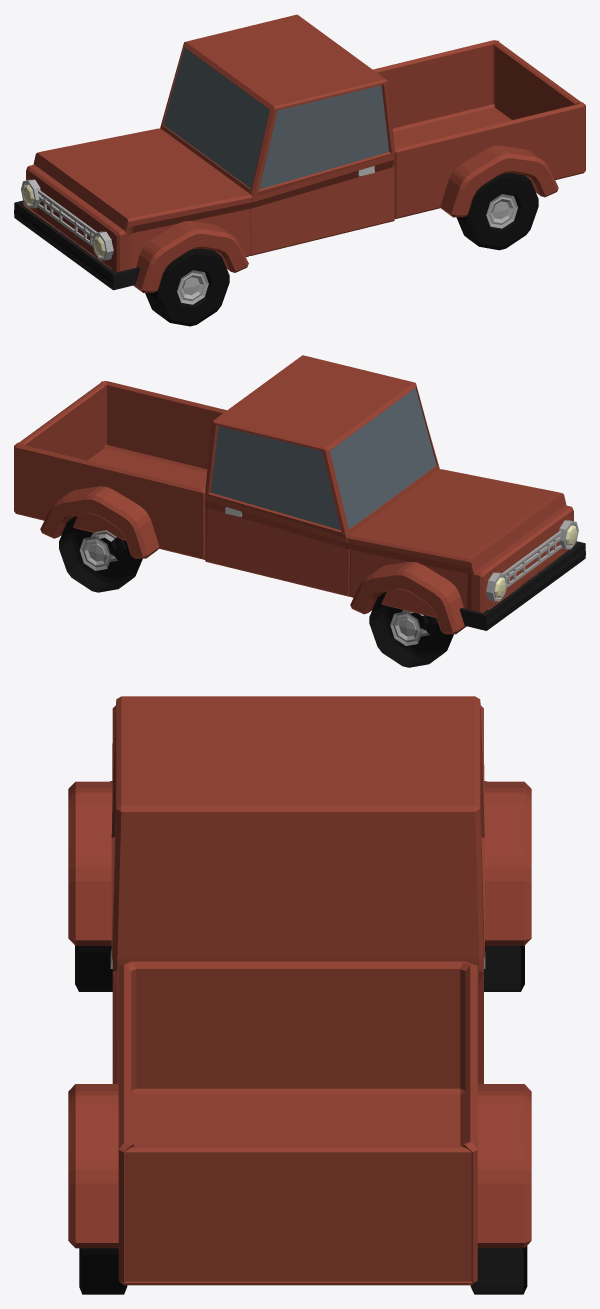
The model's file is pickup truck.glb.
3 renders of one model, top to bottom at view 1: azimuth 30°, elevation 25°; view 2: azimuth 150°, elevation 25°; view 3: azimuth 270°, elevation 25°, orthographic. The views are drawn at different scales.
Parts seen in each view (by area): view 1: Body, FrontLeftWheel, BackLeftWheel, TrunkDoor; view 2: Body, BackRightWheel, FrontRightWheel, TrunkDoor; view 3: Body, TrunkDoor, BackRightWheel, BackLeftWheel, FrontRightWheel, FrontLeftWheel.
Part boxes in pixels (x1,y1,x2,y2): Body: (14,14,585,292); FrontLeftWheel: (145,248,229,326); BackLeftWheel: (456,173,538,250); TrunkDoor: (495,41,580,119); Body: (14,355,585,634); BackRightWheel: (59,516,142,592); FrontRightWheel: (369,592,453,667); TrunkDoor: (19,382,104,460); Body: (68,696,531,1285); TrunkDoor: (124,1145,471,1281); BackRightWheel: (470,1246,527,1294); BackLeftWheel: (79,1248,127,1294); FrontRightWheel: (484,946,524,991); FrontLeftWheel: (75,946,112,991).
Size of the model in its own units: 17.95 by 6.75 by 7.49.
